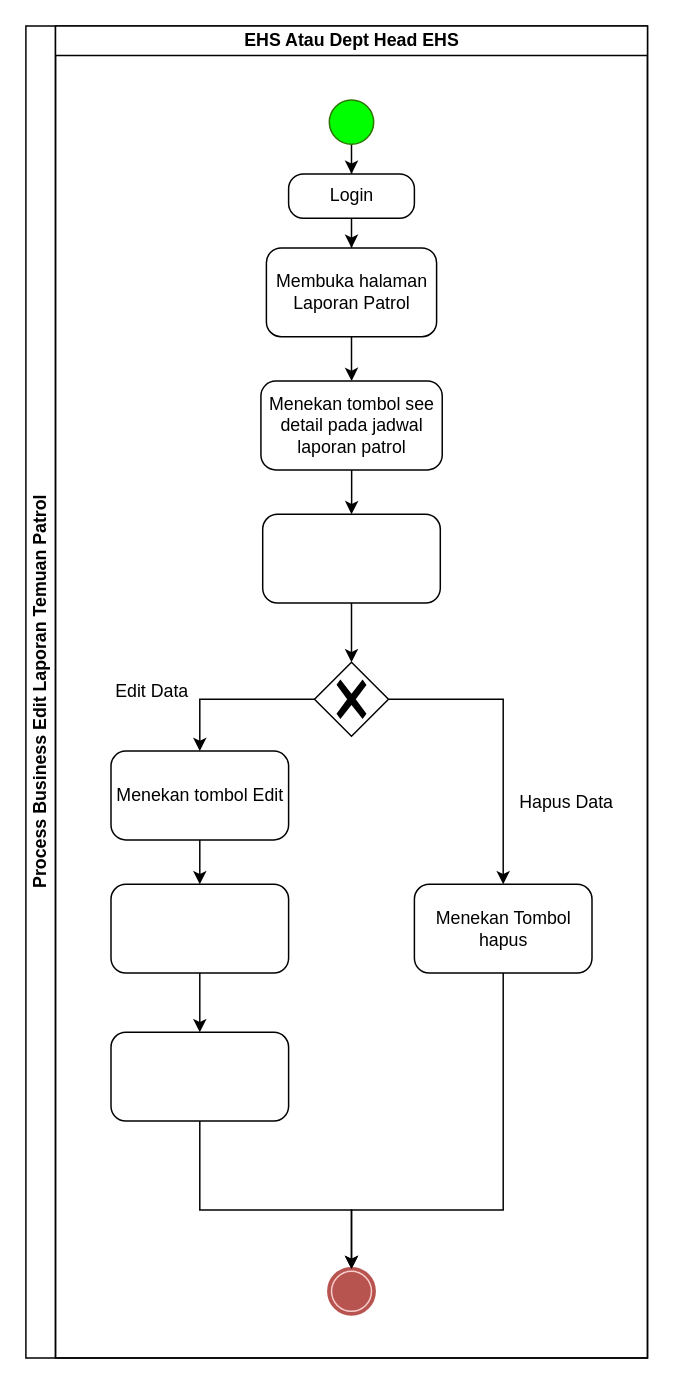
Some shapes in this 673 by 1384 pixel diagram are drawn without their labels. Here are the shapes that lost their labels. From the top down, the centre of each, then its label:
[350,558]: Menekan tombol see detail pada laporan temuan
[199,928]: Mengisi formulir data
[199,1076]: Menekan tombol submit
